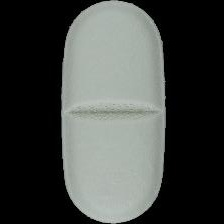0615-6548: (0, 0, 224, 224)
